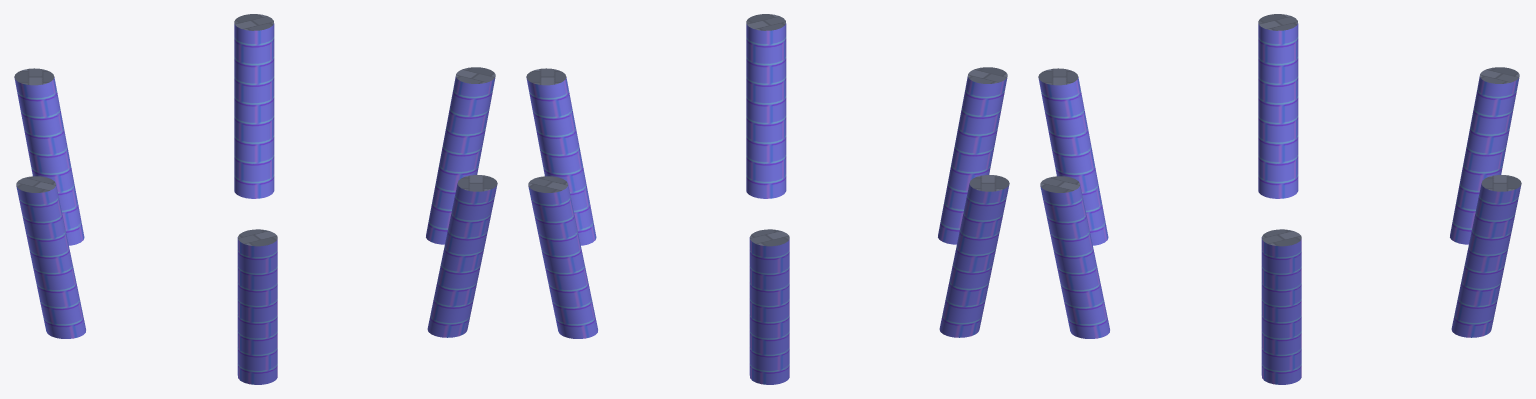
Rendered from ZeldaDemo_Pillars_Blockout.fbx.
3 views of the same model, side by side, from view 1: azimuth 30°, elevation 25°; view 2: azimuth 150°, elevation 25°; view 3: azimuth 270°, elevation 25° (orthographic).
Visible parts, largest first — view 1: pCylinder2, pCylinder6, pCylinder10, pCylinder8, pCylinder12, pCylinder4; view 2: pCylinder10, pCylinder2, pCylinder6, pCylinder4, pCylinder8, pCylinder12; view 3: pCylinder6, pCylinder10, pCylinder2, pCylinder12, pCylinder4, pCylinder8.
Part boxes in pixels (x1,y1,x2,y2): pCylinder2: (234, 14, 274, 198); pCylinder6: (16, 176, 85, 338); pCylinder10: (427, 175, 497, 337); pCylinder8: (237, 229, 277, 384); pCylinder12: (426, 67, 495, 244); pCylinder4: (14, 68, 84, 245); pCylinder10: (746, 14, 786, 198); pCylinder2: (528, 176, 597, 338); pCylinder6: (939, 175, 1009, 337); pCylinder4: (749, 229, 789, 384); pCylinder8: (938, 67, 1007, 244); pCylinder12: (526, 68, 596, 245); pCylinder6: (1258, 14, 1298, 198); pCylinder10: (1040, 176, 1109, 338); pCylinder2: (1451, 175, 1521, 337); pCylinder12: (1261, 229, 1301, 384); pCylinder4: (1450, 67, 1519, 244); pCylinder8: (1038, 68, 1108, 245).
Bounding box in the file's own units: 1190 × 366 × 1046.
